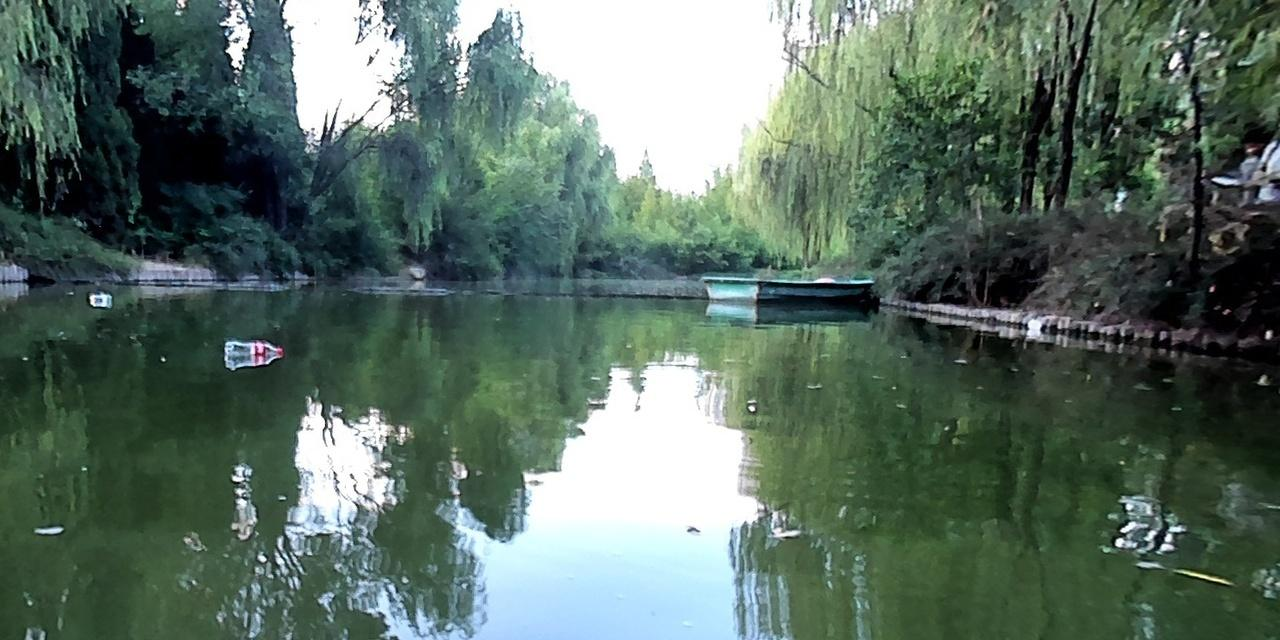bottle: (224, 339, 280, 358), (89, 292, 111, 303)
